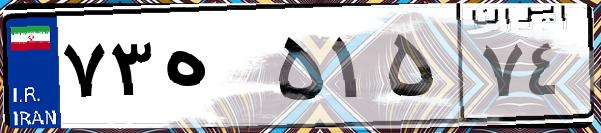1: (330, 28, 385, 110)
3: (110, 28, 158, 98)
4: (525, 38, 570, 115)
5: (270, 28, 330, 110), (385, 28, 445, 110)
7: (57, 26, 110, 100), (475, 38, 525, 113)
ه: (158, 20, 270, 120)
